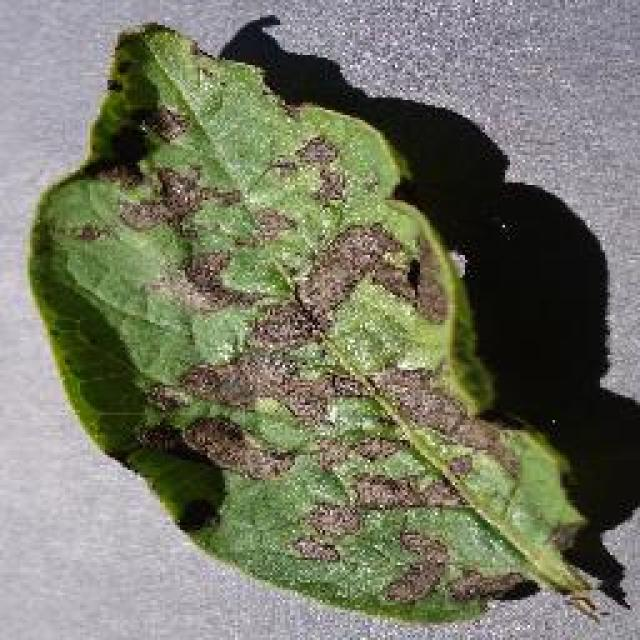early_blight: (23, 18, 605, 628)
